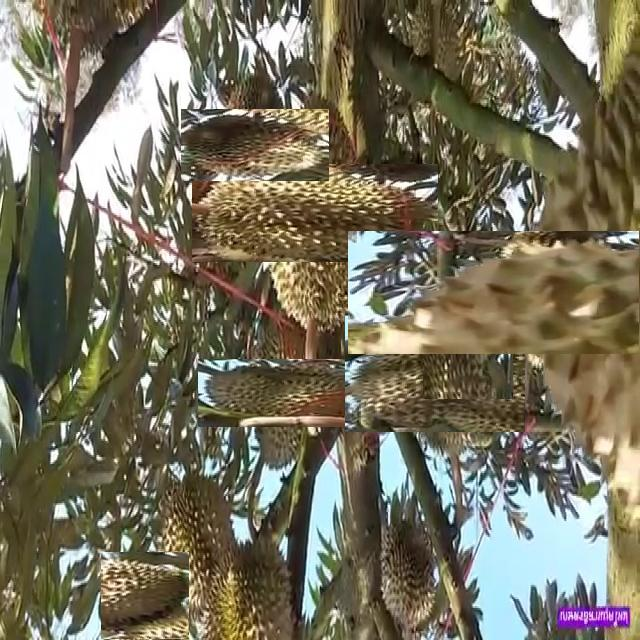durian: (431, 148, 640, 438), (229, 127, 402, 299), (360, 297, 511, 448), (423, 220, 513, 398), (149, 472, 242, 626), (222, 334, 340, 452), (200, 89, 310, 200), (196, 526, 298, 640), (101, 552, 189, 640), (375, 523, 438, 634)
